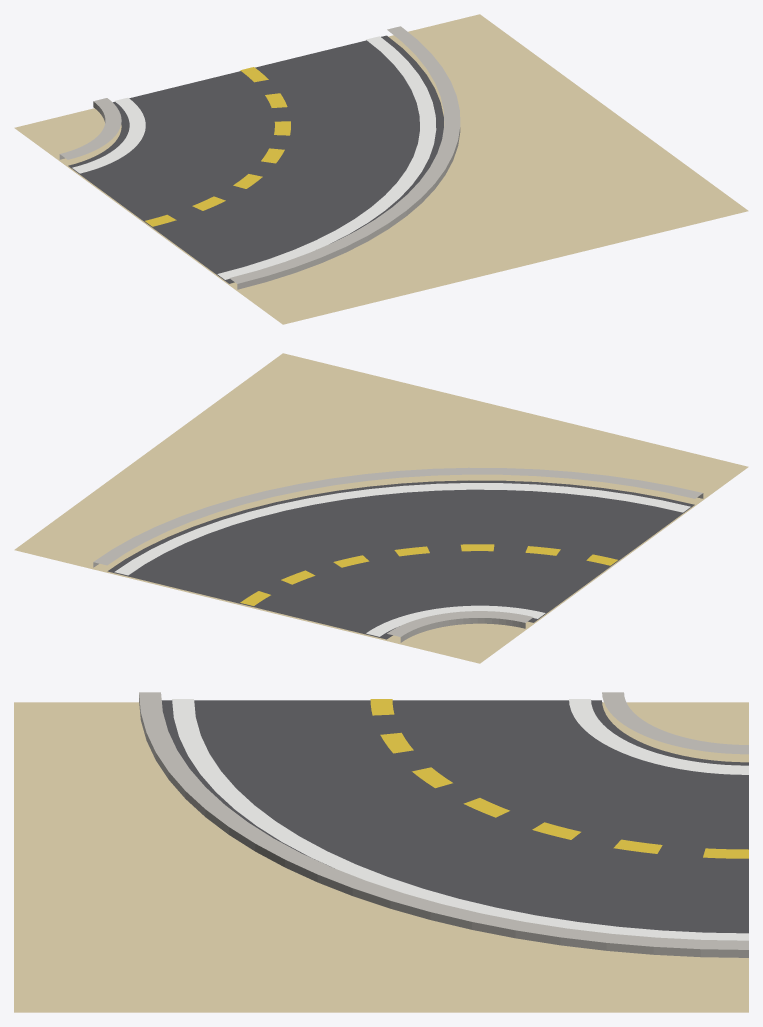
File: comic-road-corner.glb
3 renders of one model, top to bottom at view 1: azimuth 30°, elevation 25°; view 2: azimuth 150°, elevation 25°; view 3: azimuth 270°, elevation 25°, orthographic. The views are drawn at different scales.
Visible parts, largest first — view 1: road_corner; view 2: road_corner; view 3: road_corner.
Part boxes in pixels (x1,y1,x2,y2): road_corner: (14,14,748,324); road_corner: (14,353,748,663); road_corner: (14,692,748,1012).
Size of the model in its own units: 10 by 0.15 by 10.
